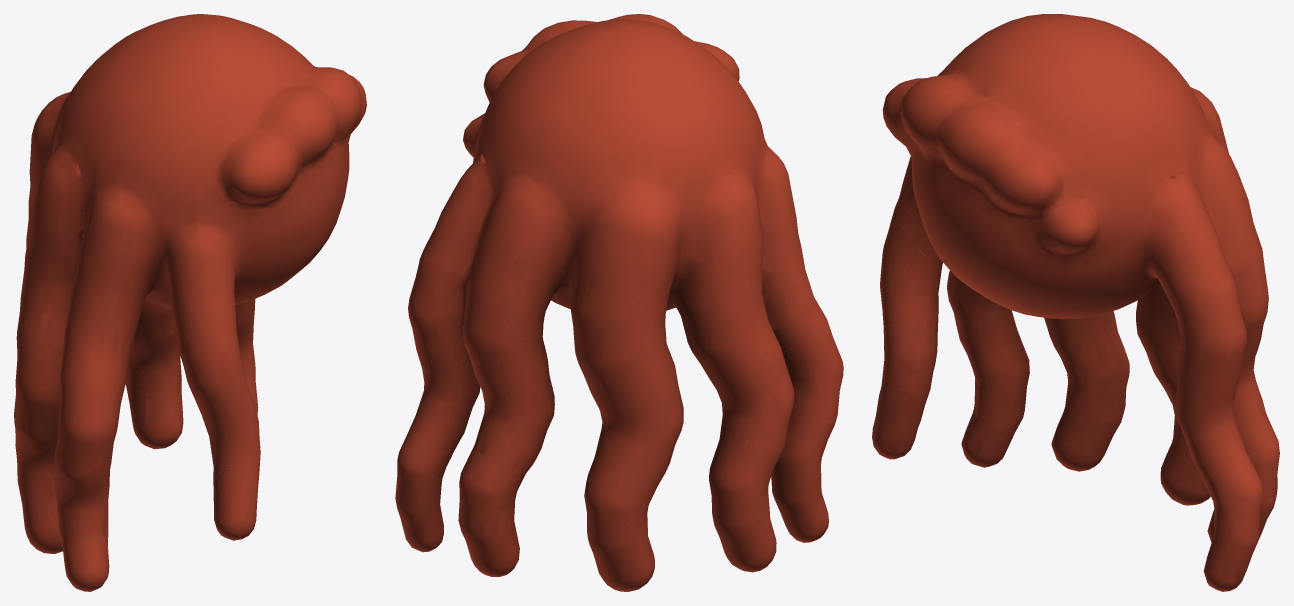
Rendered from kan-jag-byta-den-har.glb.
The picture shows the model from 3 angles, left to right: view 1: azimuth 30°, elevation 25°; view 2: azimuth 150°, elevation 25°; view 3: azimuth 270°, elevation 25°; orthographic projection. The views are drawn at different scales.
Parts seen in each view (by area): view 1: cabelo__r0; view 2: cabelo__r0; view 3: cabelo__r0.
Part boxes in pixels (x1,y1,x2,y2): cabelo__r0: (14,14,366,591); cabelo__r0: (395,14,843,591); cabelo__r0: (872,14,1279,591).
Bounding box in the file's own units: 0.7763 × 1.13 × 0.811.
